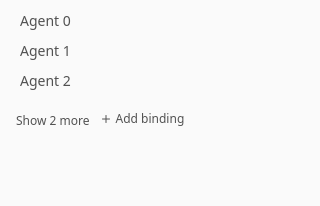
Test: AdapterCardBindings › expands to show all bindings when "Show N more" is clicked
The image size is (320, 206).
Click the button "Show 2 more": (53, 121) x1=16 y1=113 x2=90 y2=129
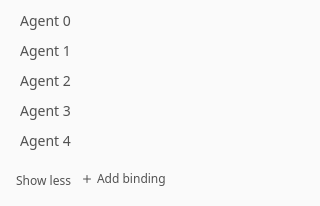
Expected: the text "Agent 3" is shown, x1=20 y1=101 x2=71 y2=121
Expected: the text "Agent 4" is shown, x1=20 y1=131 x2=71 y2=151
Expected: the button "Show less" is shown, x1=16 y1=173 x2=71 y2=189
